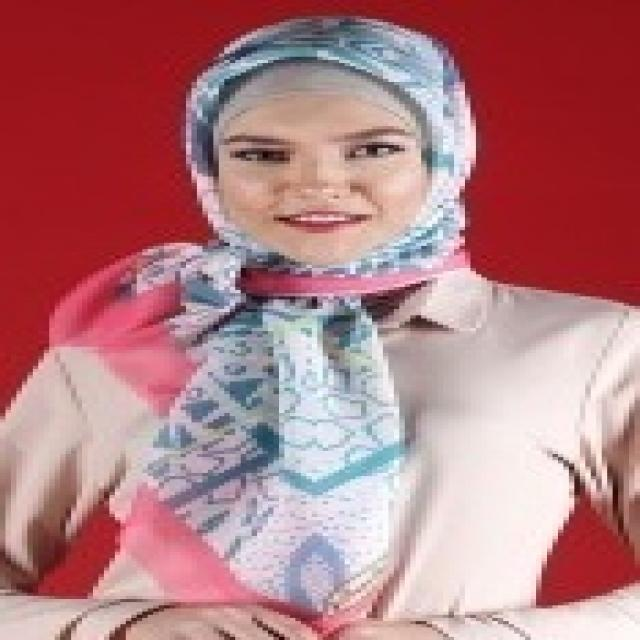head: (168, 8, 496, 287)
